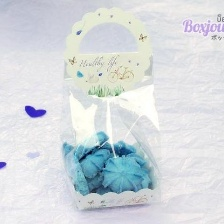snack: (51, 0, 169, 215)
